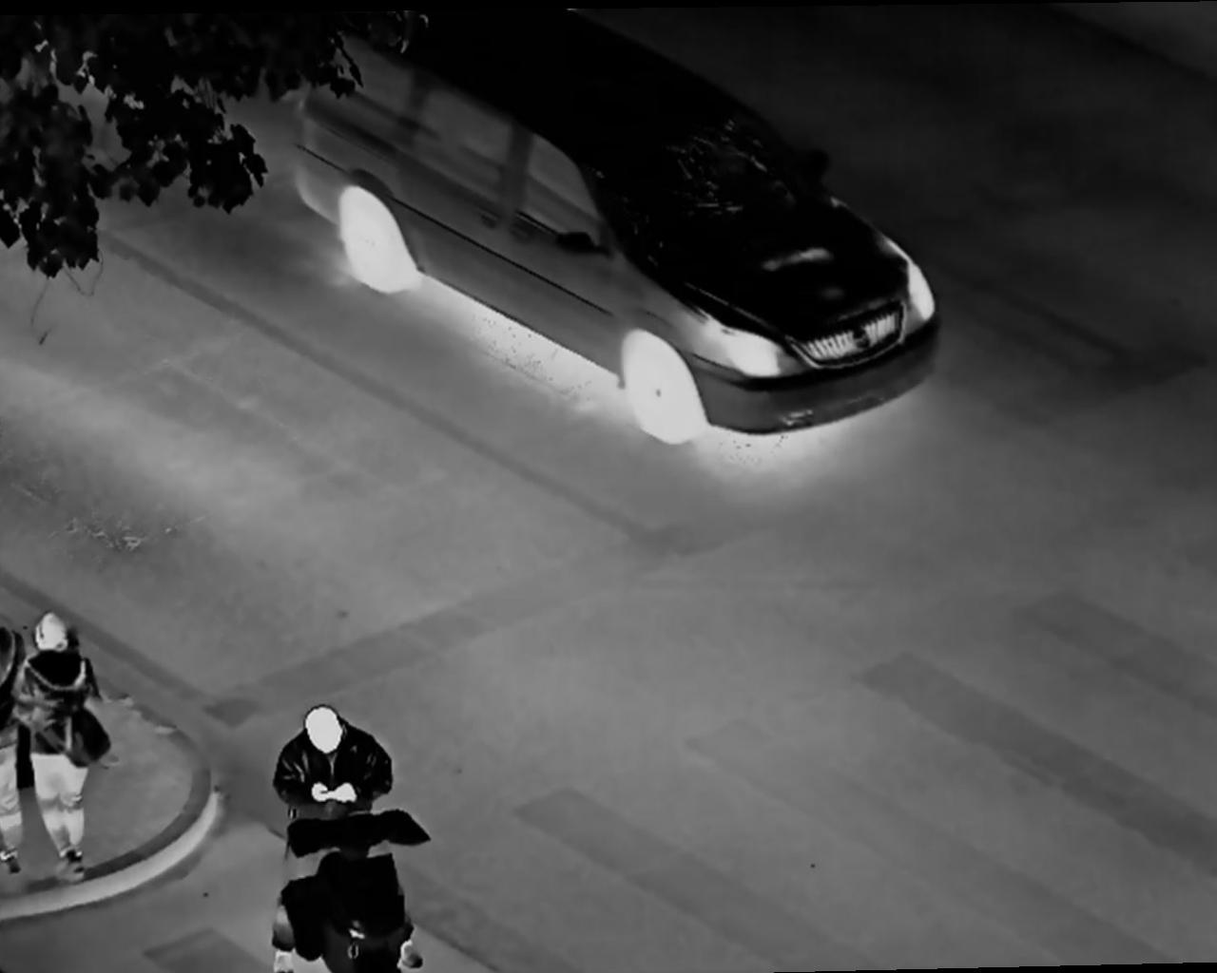person: (265, 699, 414, 972), (14, 610, 106, 871)
